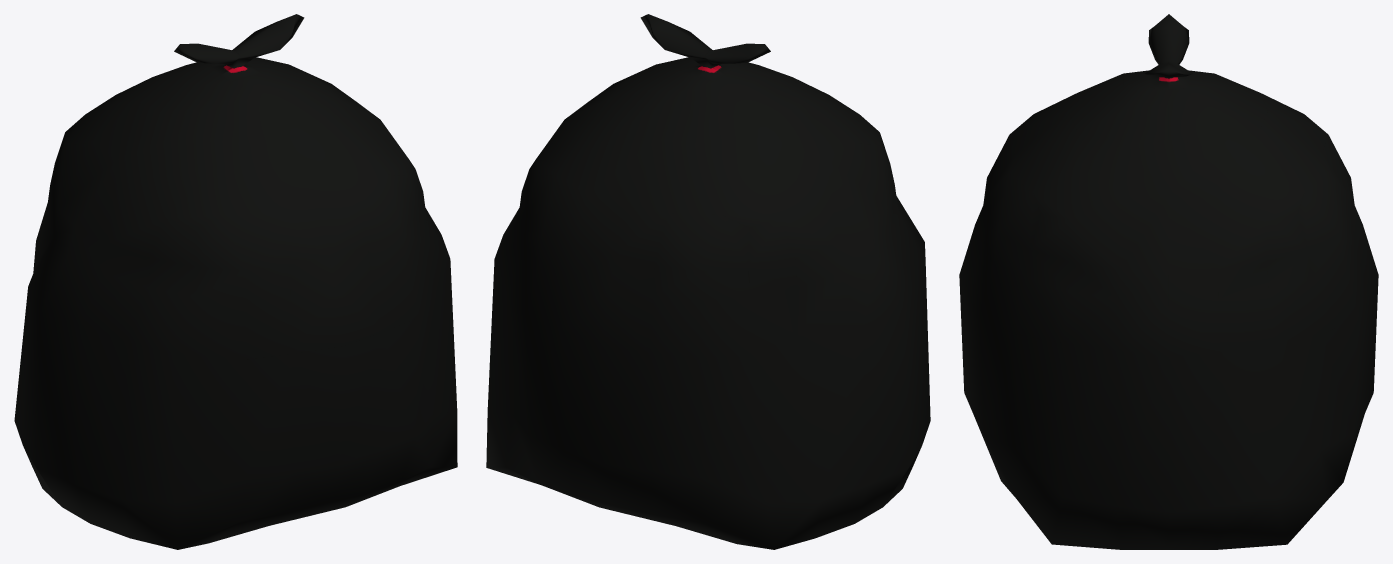
File: garbage_bag_02.fbx
The picture shows the model from 3 angles, left to right: view 1: azimuth 30°, elevation 25°; view 2: azimuth 150°, elevation 25°; view 3: azimuth 270°, elevation 25°; orthographic projection.
Parts seen in each view (by area): view 1: garbage_bag_03; view 2: garbage_bag_03; view 3: garbage_bag_03.
Boxes of the visible parts, x1,y1,x2,y2 form: garbage_bag_03: [14, 14, 457, 549]; garbage_bag_03: [486, 14, 930, 549]; garbage_bag_03: [959, 14, 1378, 549].
Size of the model in its own units: 44.76 by 48.55 by 41.39.
